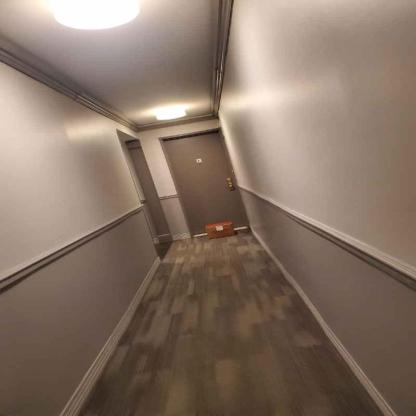package: (206, 221, 235, 240)
